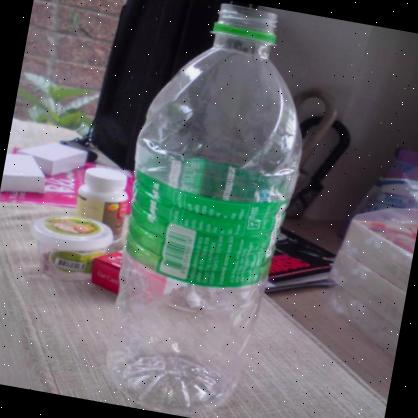bottle: (94, 0, 322, 418)
label: (119, 170, 282, 296)
